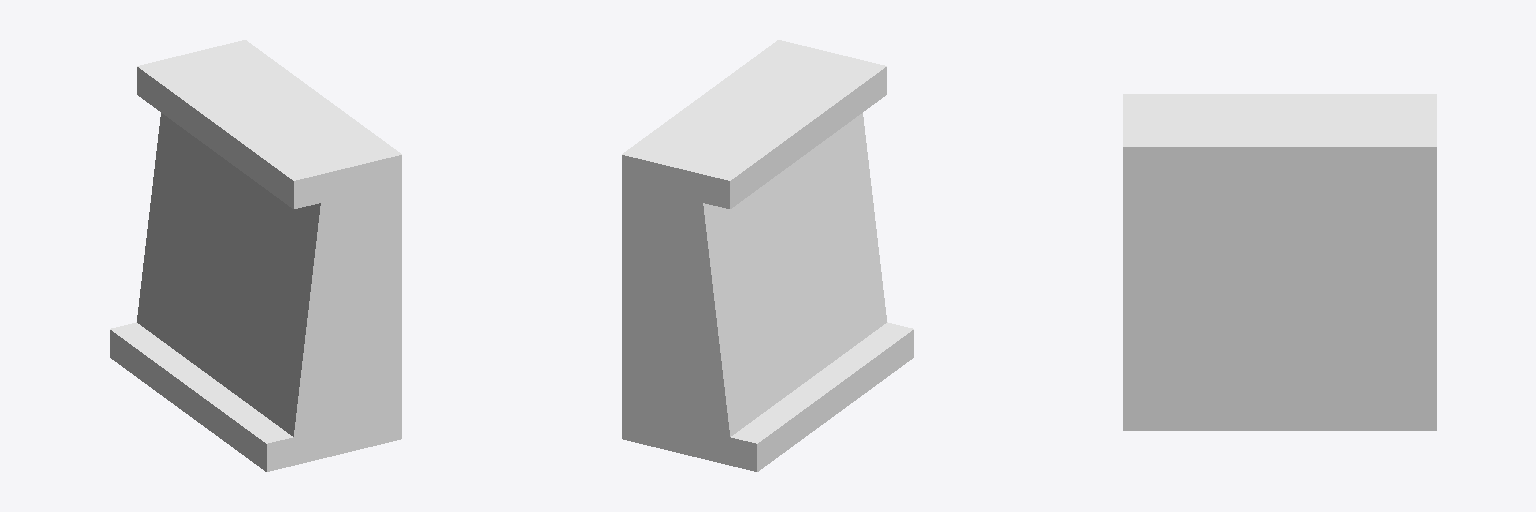
The model's file is dryingrack.obj.
3 renders of one model, left to right at view 1: azimuth 30°, elevation 25°; view 2: azimuth 150°, elevation 25°; view 3: azimuth 270°, elevation 25°, orthographic.
Visible parts, largest first — view 1: g0; view 2: g0; view 3: g0.
Part boxes in pixels (x1,y1,x2,y2): g0: (110, 40, 401, 471); g0: (622, 40, 913, 471); g0: (1123, 94, 1436, 430).
Bounding box in the file's own units: 0.5 × 1 × 1.